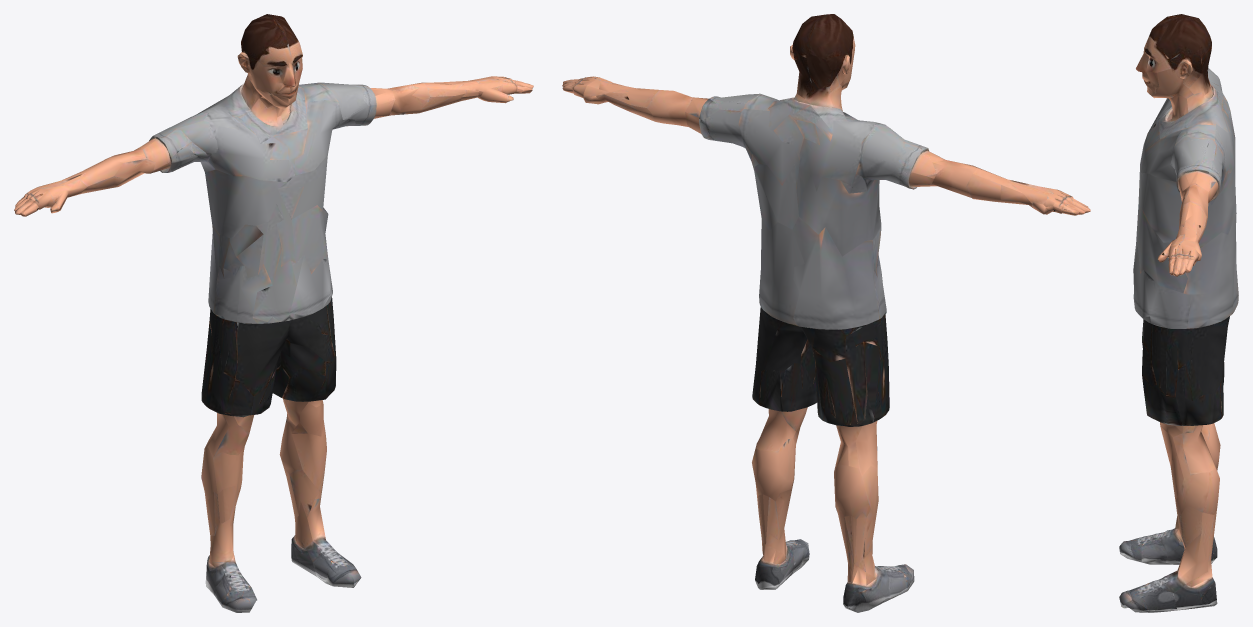
3 views of the same model, side by side, from view 1: azimuth 30°, elevation 25°; view 2: azimuth 150°, elevation 25°; view 3: azimuth 270°, elevation 25° (orthographic).
Bounding box in the file's own units: 1.83 × 1.9 × 0.363.
1 material, 1 textured.
